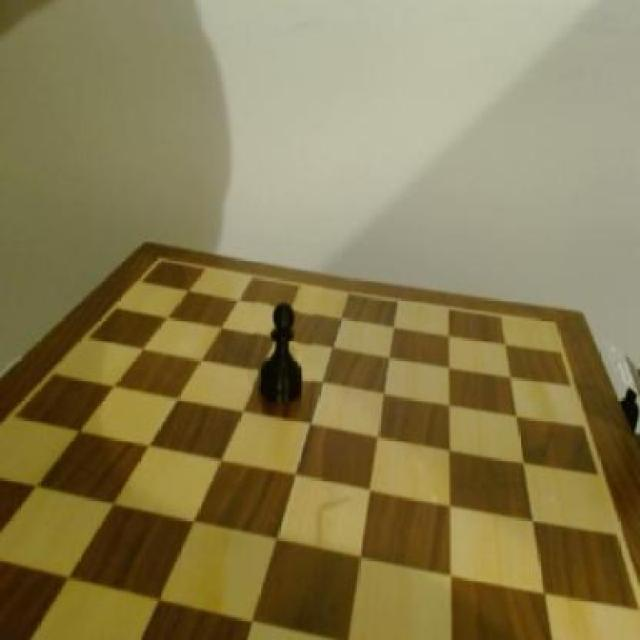black-knight: (254, 294, 313, 408)
